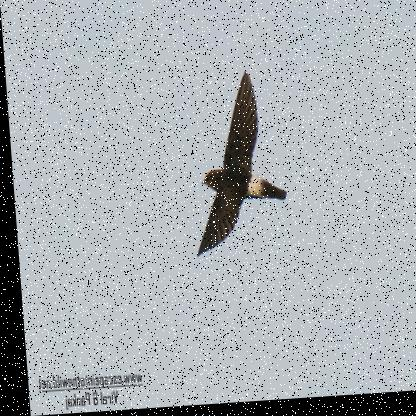Burung: (182, 72, 289, 260)
